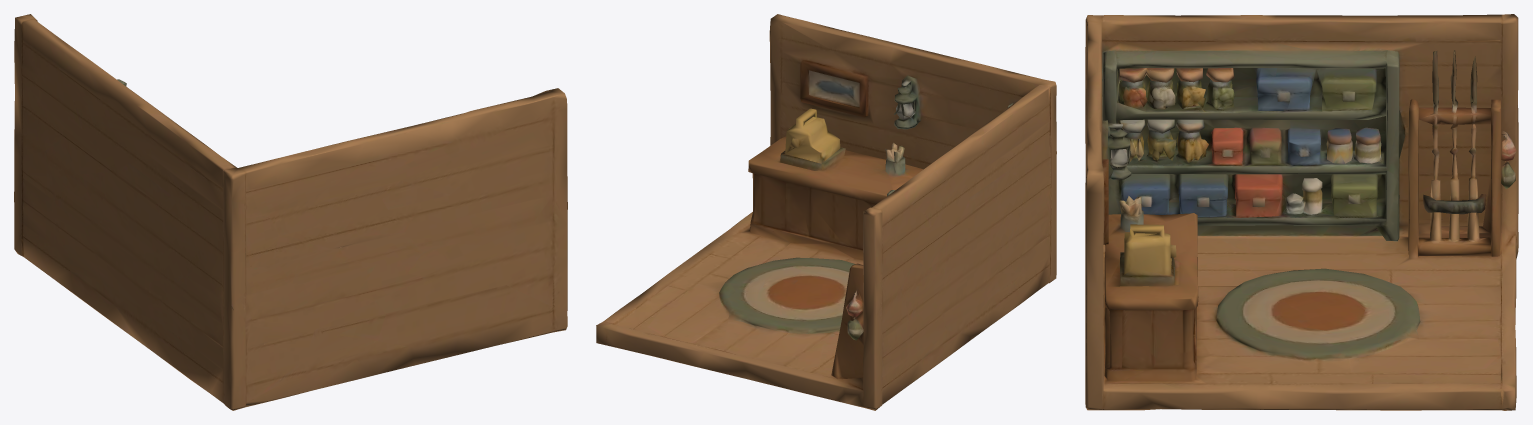
File: room-shop.glb
3 renders of one model, left to right at view 1: azimuth 30°, elevation 25°; view 2: azimuth 150°, elevation 25°; view 3: azimuth 270°, elevation 25°, orthographic. The views are drawn at different scales.
Parts seen in each view (by area): view 1: tripo_node_010f1efd-0eec-4c2f-9e36-b5cb15aacdae; view 2: tripo_node_010f1efd-0eec-4c2f-9e36-b5cb15aacdae; view 3: tripo_node_010f1efd-0eec-4c2f-9e36-b5cb15aacdae.
Boxes of the visible parts, <box> form: tripo_node_010f1efd-0eec-4c2f-9e36-b5cb15aacdae: <box>14,14,567,410</box>; tripo_node_010f1efd-0eec-4c2f-9e36-b5cb15aacdae: <box>596,14,1056,410</box>; tripo_node_010f1efd-0eec-4c2f-9e36-b5cb15aacdae: <box>1085,14,1518,410</box>.
Size of the model in its own units: 0.8914 by 0.5988 by 1.
1 material, 1 textured.
